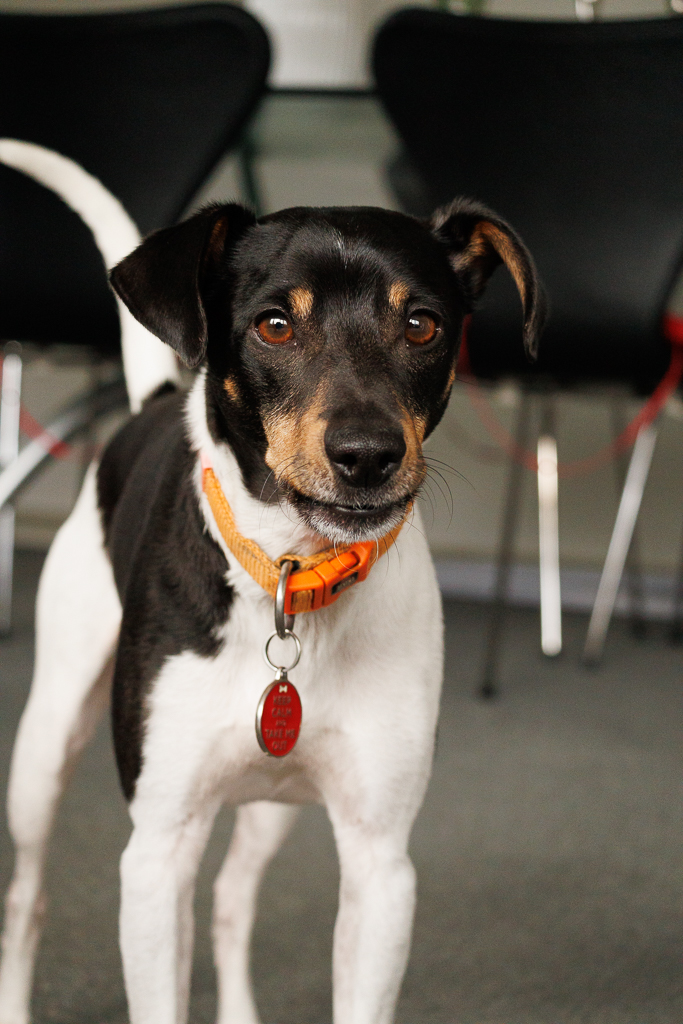Dog: (0, 131, 551, 1024)
